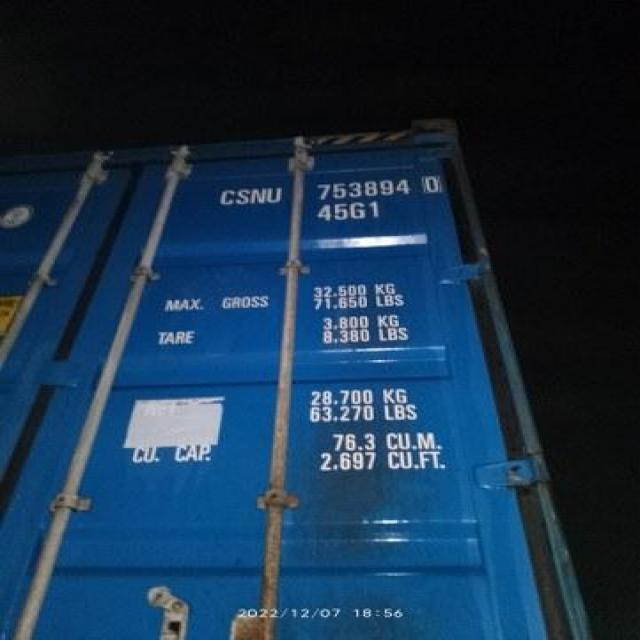container_number_h: (183, 163, 499, 245)
